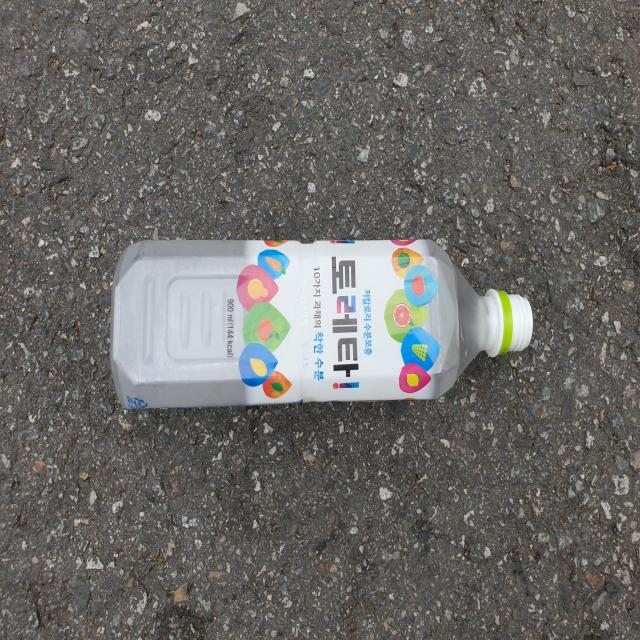plastic: (110, 240, 534, 409)
